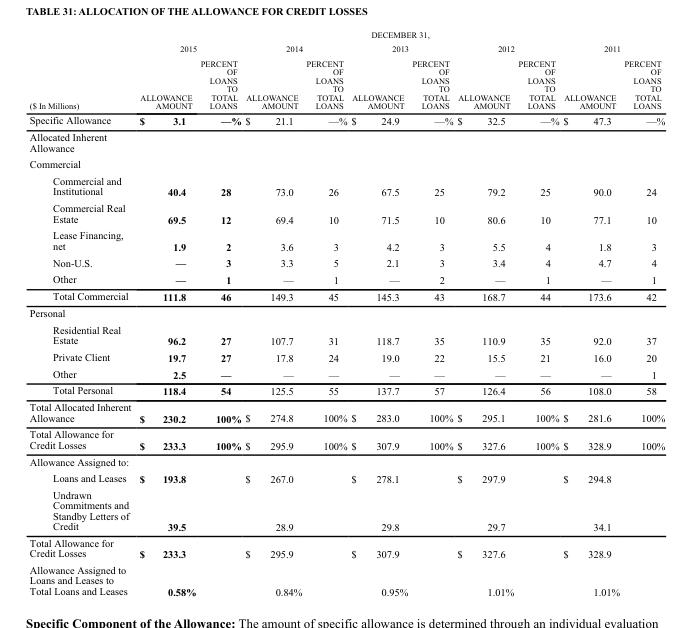table: (28, 29, 664, 596)
table column: (28, 29, 134, 596), (134, 29, 197, 596), (242, 29, 303, 596), (348, 29, 409, 596), (454, 29, 515, 596), (560, 29, 621, 596), (197, 29, 242, 596), (303, 29, 348, 596), (409, 29, 454, 596), (515, 29, 560, 596), (621, 29, 664, 596)
table column header: (28, 29, 664, 111)
table projected row header: (28, 128, 664, 155), (28, 155, 664, 172), (28, 304, 664, 320), (28, 453, 664, 469)
table row: (28, 55, 664, 111), (28, 486, 664, 534), (28, 561, 664, 596), (28, 226, 664, 254), (28, 320, 664, 348), (28, 425, 664, 453), (28, 128, 664, 155), (28, 172, 664, 199), (28, 199, 664, 226), (28, 398, 664, 425), (28, 534, 664, 561), (28, 111, 664, 128), (28, 155, 664, 172), (28, 270, 664, 287), (28, 287, 664, 304), (28, 348, 664, 365), (28, 365, 664, 382), (28, 469, 664, 486), (28, 254, 664, 270), (28, 304, 664, 320), (28, 382, 664, 398), (28, 453, 664, 469), (28, 41, 664, 55), (28, 29, 664, 41)
table spanning cell: (28, 29, 134, 111), (134, 29, 664, 41), (134, 41, 242, 55), (242, 41, 348, 55), (348, 41, 454, 55), (454, 41, 560, 55), (560, 41, 664, 55)
